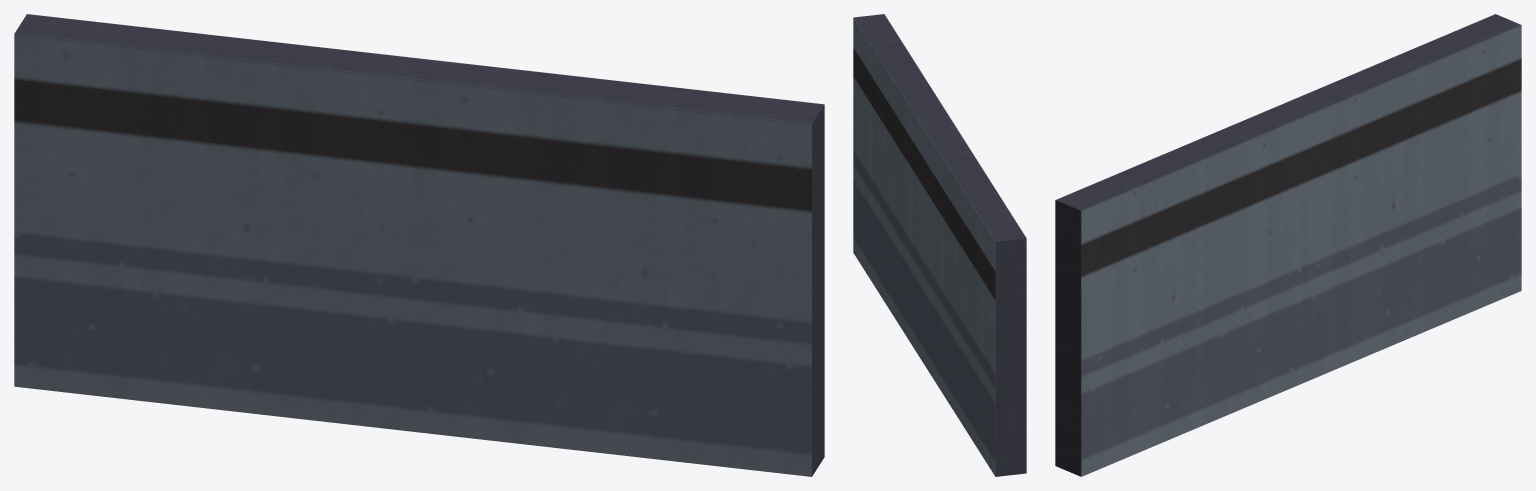
File: tileWallOnlyD.fbx
3 renders of one model, left to right at view 1: azimuth 30°, elevation 25°; view 2: azimuth 150°, elevation 25°; view 3: azimuth 270°, elevation 25°, orthographic. The views are drawn at different scales.
Parts seen in each view (by area): view 1: tileWallOnlyD, tileWallOnlyD2; view 2: tileWallOnlyD2, tileWallOnlyD; view 3: tileWallOnlyD, tileWallOnlyD2.
Part boxes in pixels (<box>): tileWallOnlyD: <box>413,59,824,476</box>; tileWallOnlyD2: <box>14,14,425,431</box>; tileWallOnlyD2: <box>924,126,1026,476</box>; tileWallOnlyD: <box>853,14,955,363</box>; tileWallOnlyD: <box>1055,107,1301,476</box>; tileWallOnlyD2: <box>1276,14,1521,383</box>.
Size of the model in its own units: 635 by 400 by 635.
1 material, 1 textured.
